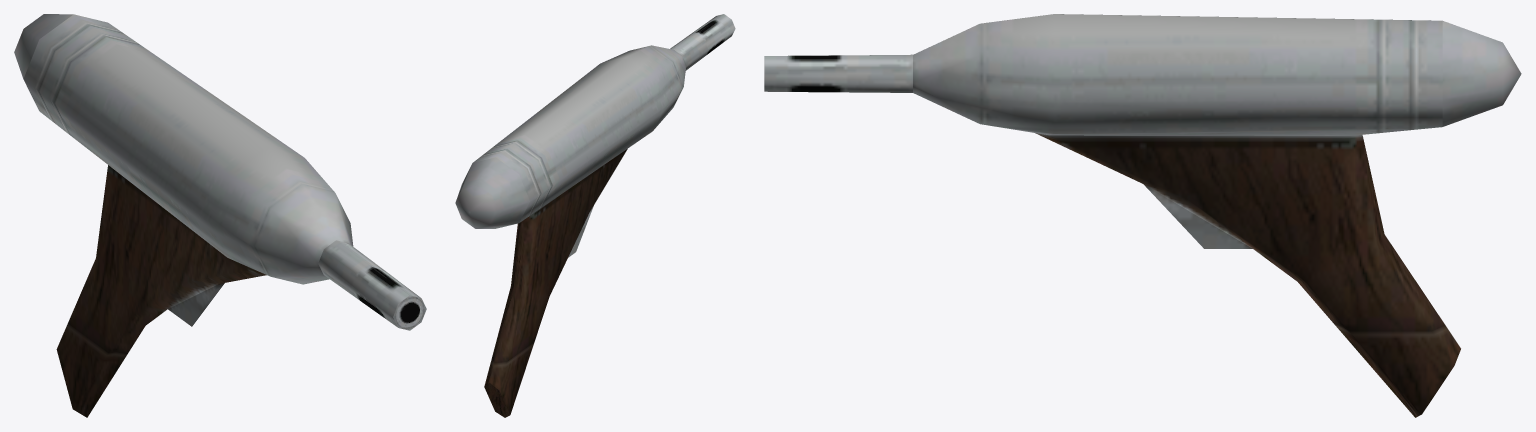
File: wp_pistol_republic_blaster_l1.fbx
The picture shows the model from 3 angles, left to right: view 1: azimuth 30°, elevation 25°; view 2: azimuth 150°, elevation 25°; view 3: azimuth 270°, elevation 25°; orthographic projection. The views are drawn at different scales.
Parts seen in each view (by area): view 1: mesh_node; view 2: mesh_node; view 3: mesh_node.
Boxes of the visible parts, x1,y1,x2,y2 form: mesh_node: (14, 14, 426, 417); mesh_node: (455, 14, 735, 417); mesh_node: (764, 14, 1521, 417).
Bounding box in the file's own units: 0.0453 × 0.1529 × 0.2597.
1 material, 1 textured.
